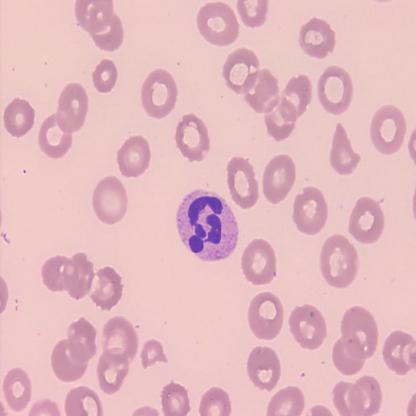Segmented neutrophil: (176, 185, 239, 263)
